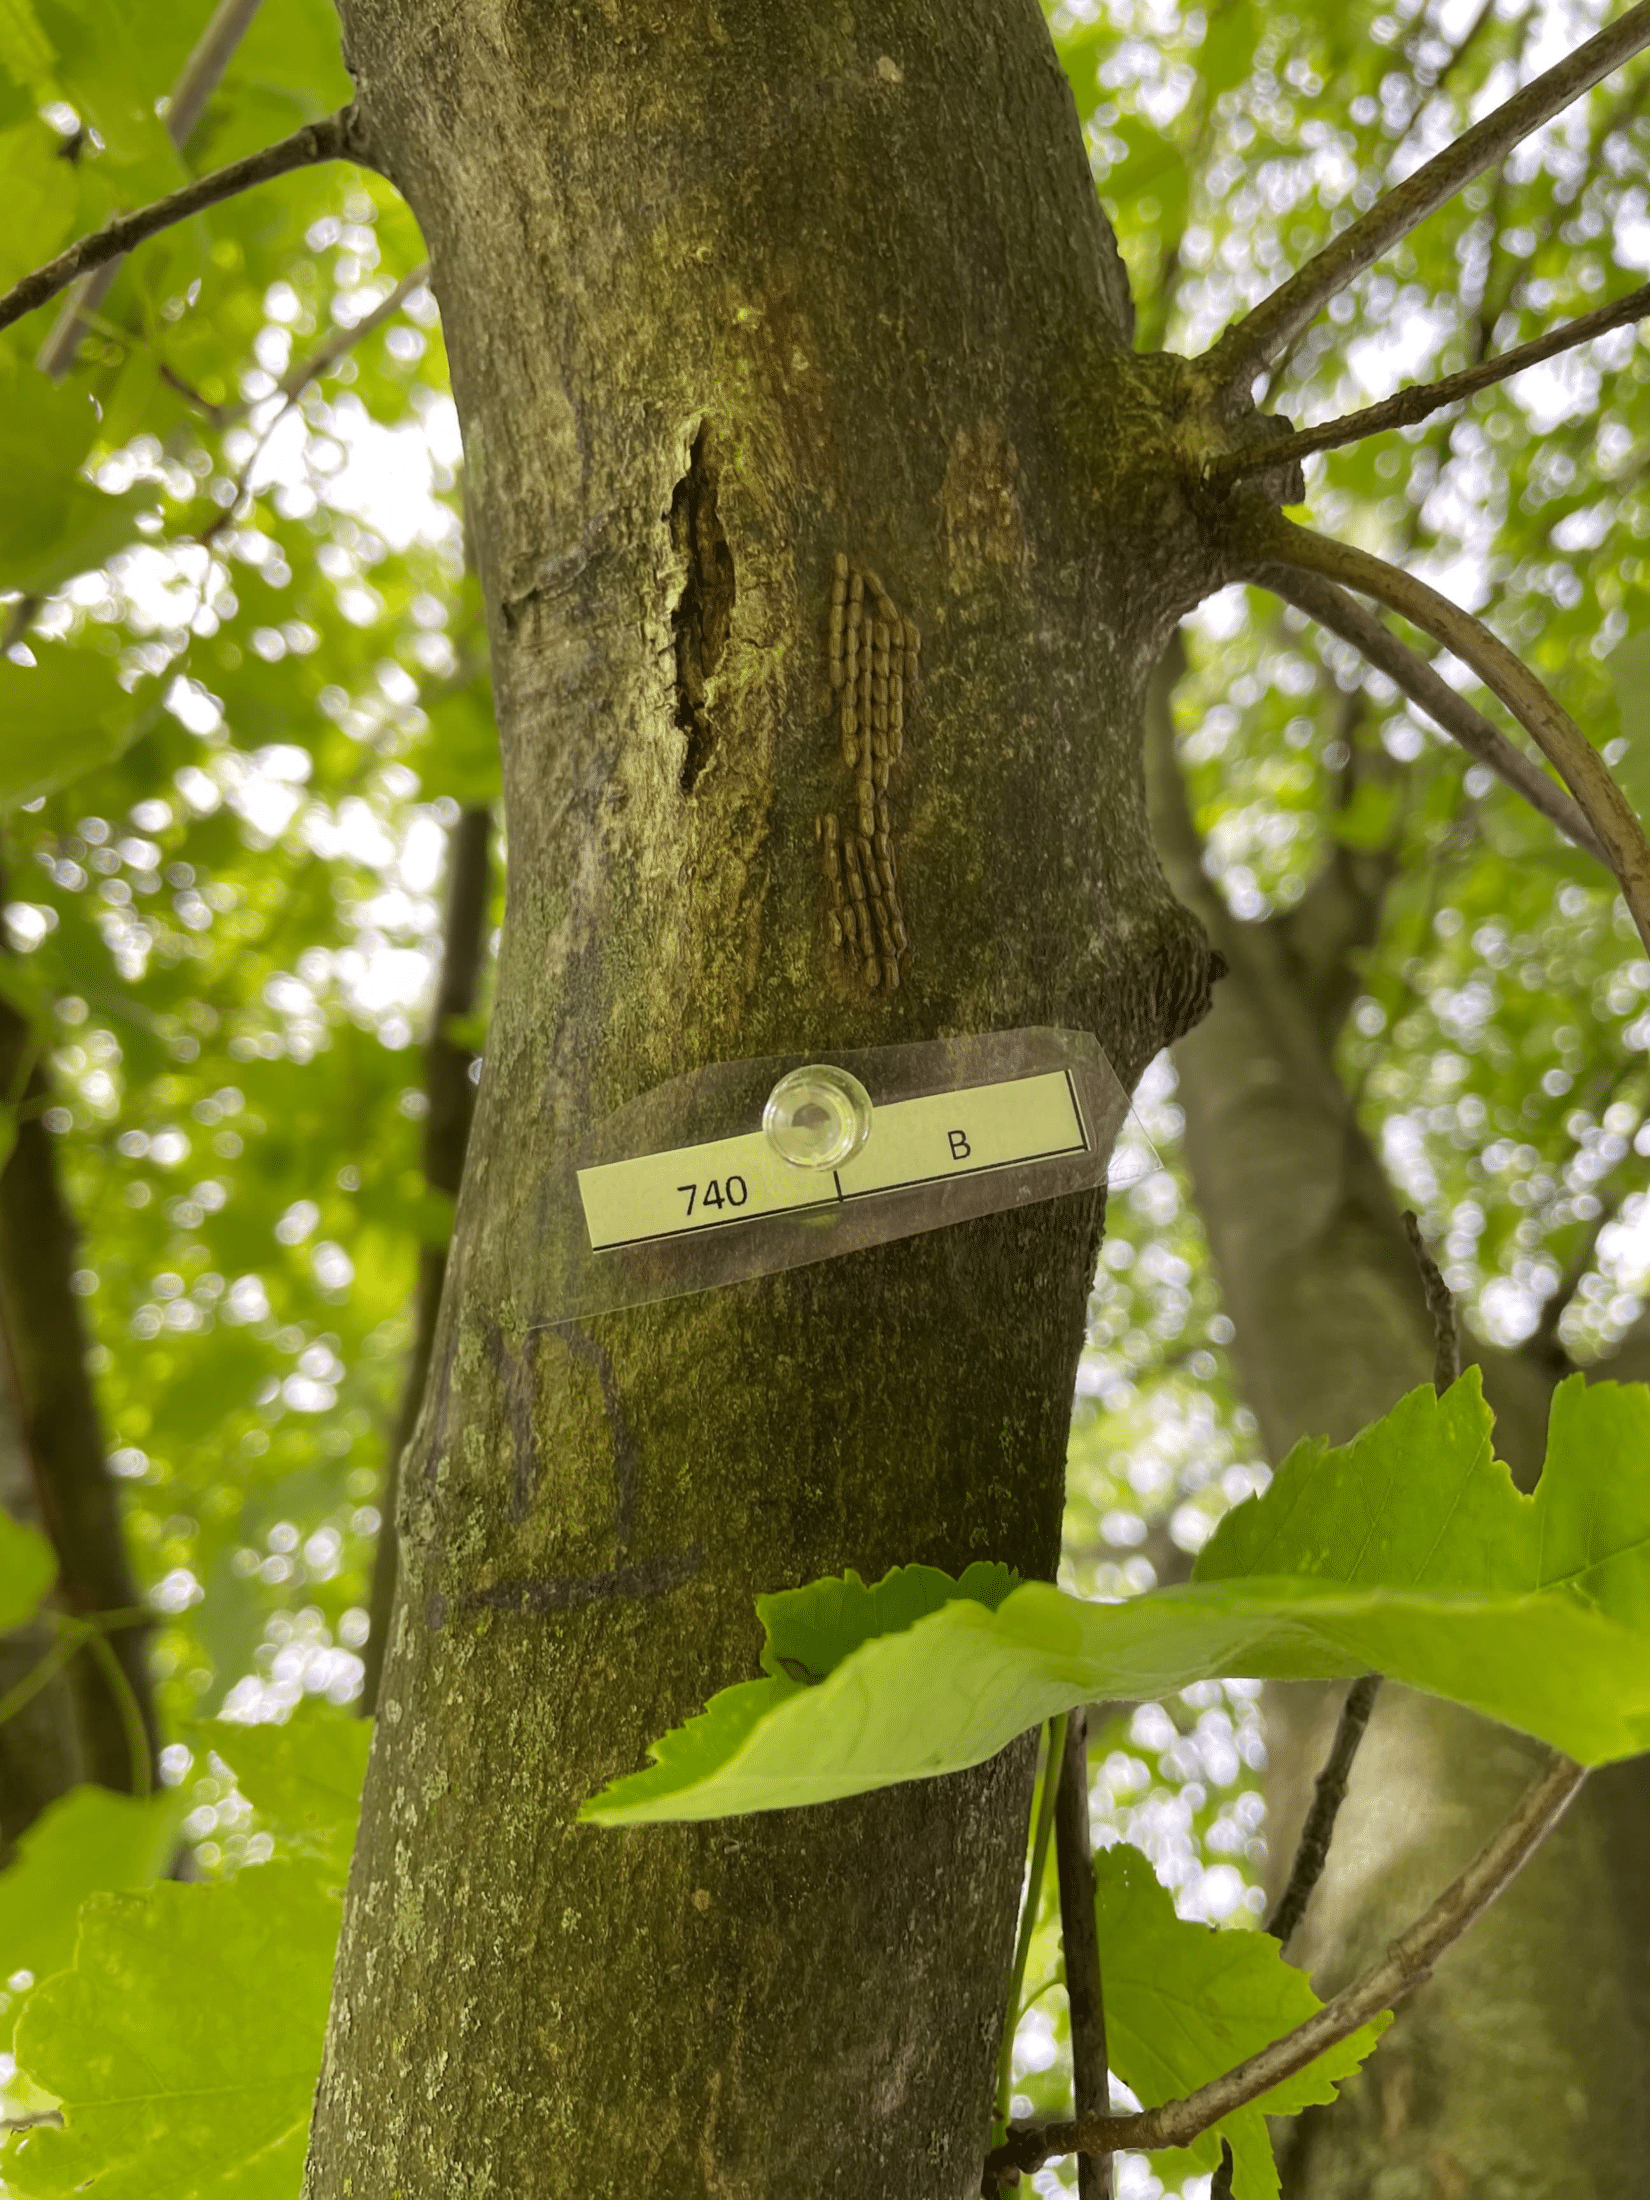egg masses: (827, 561, 945, 804), (820, 819, 906, 991)
